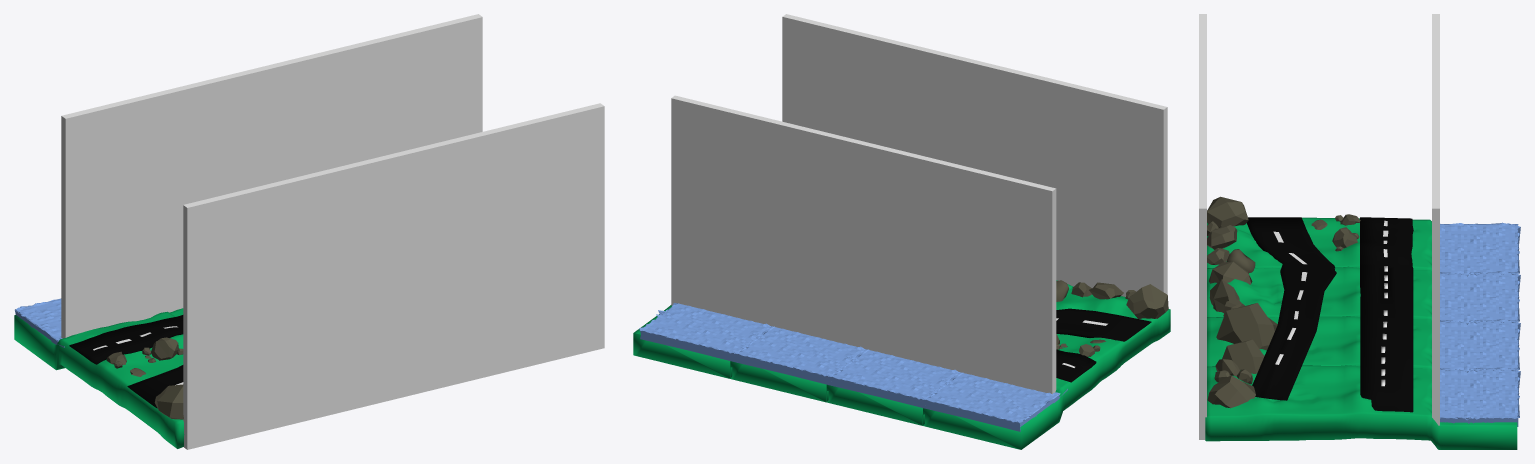
File: road.fbx
3 renders of one model, left to right at view 1: azimuth 30°, elevation 25°; view 2: azimuth 150°, elevation 25°; view 3: azimuth 270°, elevation 25°, orthographic. The views are drawn at different scales.
Visible parts, largest first — view 1: Cube.022, Cube.023, Plane.002; view 2: Cube.023, Cube.022, Plane.002; view 3: Plane.002, Cube.022, Cube.023.
Part boxes in pixels (bbox=[...]): Cube.022: bbox=[183, 103, 604, 449]; Cube.023: bbox=[61, 14, 482, 338]; Plane.002: bbox=[14, 298, 184, 448]; Cube.023: bbox=[671, 95, 1056, 394]; Cube.022: bbox=[782, 14, 1167, 296]; Plane.002: bbox=[633, 280, 1170, 449]; Plane.002: bbox=[1205, 196, 1520, 449]; Cube.022: bbox=[1199, 14, 1206, 439]; Cube.023: bbox=[1432, 14, 1439, 425].
Bounding box in the file's own units: 4089 × 2283 × 2762.
